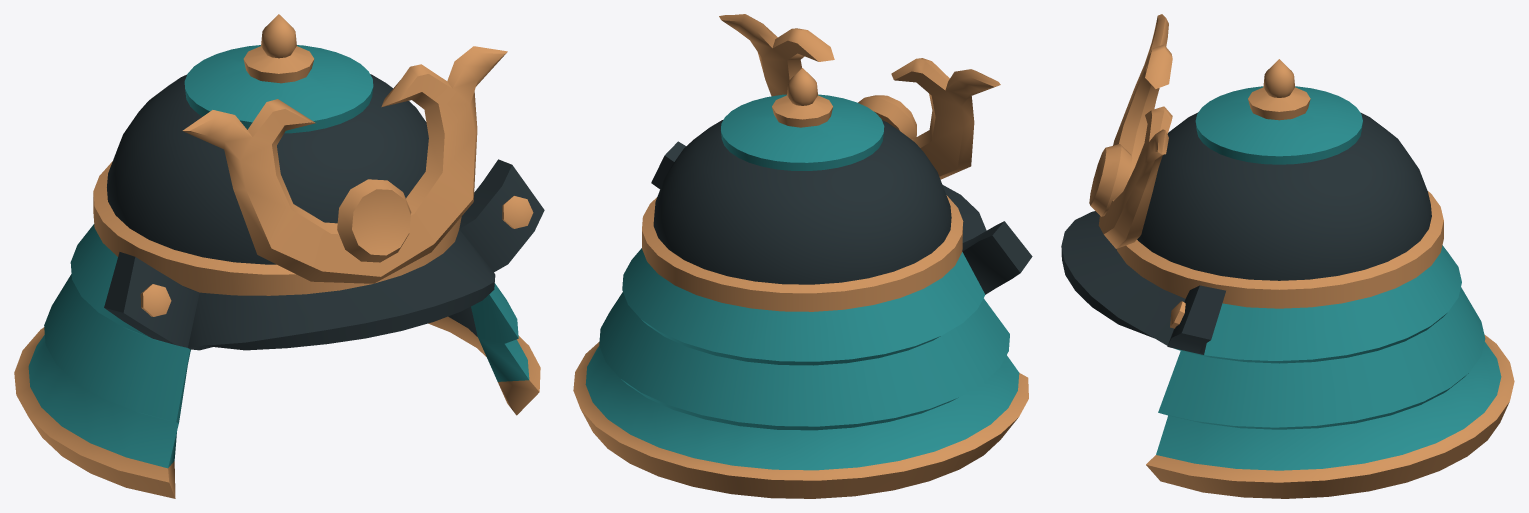
Rendered from samurai_helmet_green.gltf.glb.
The picture shows the model from 3 angles, left to right: view 1: azimuth 30°, elevation 25°; view 2: azimuth 150°, elevation 25°; view 3: azimuth 270°, elevation 25°; orthographic projection. The views are drawn at different scales.
Parts seen in each view (by area): view 1: samurai_helmet_green; view 2: samurai_helmet_green; view 3: samurai_helmet_green.
Boxes of the visible parts, x1,y1,x2,y2 form: samurai_helmet_green: (14,14,544,498); samurai_helmet_green: (573,14,1032,498); samurai_helmet_green: (1061,14,1514,498).
Bounding box in the file's own units: 1.61 × 1.32 × 1.56.
